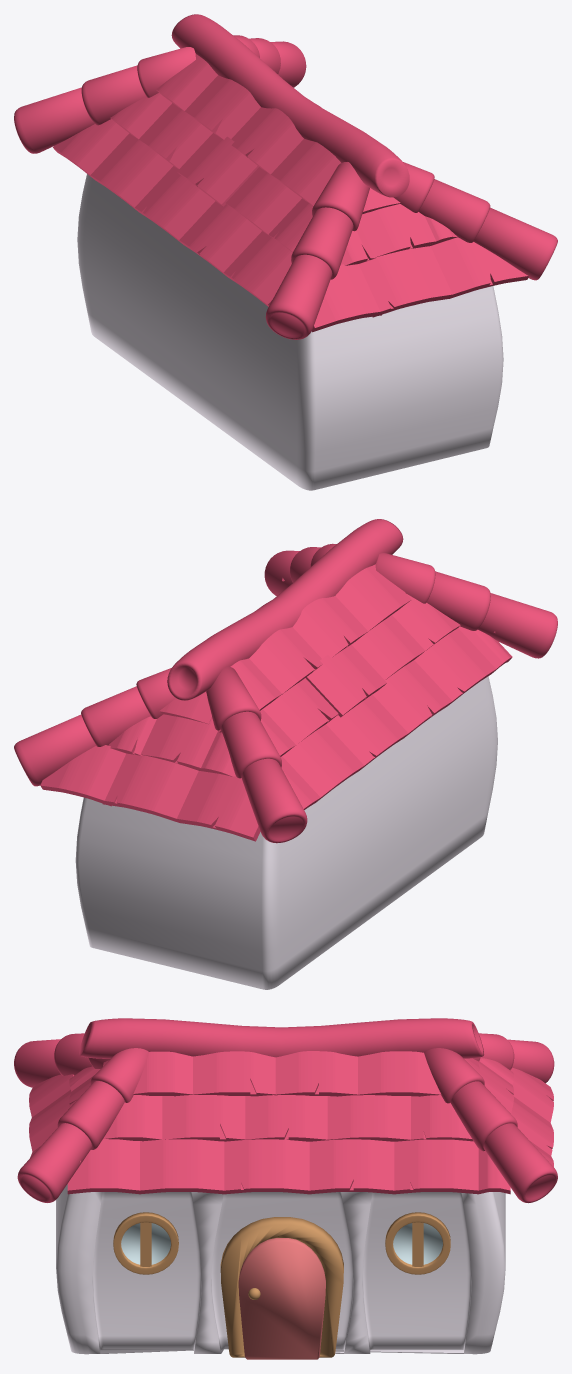
Rendered from Haus.002-Rot.fbx.
The picture shows the model from 3 angles, top to bottom: view 1: azimuth 30°, elevation 25°; view 2: azimuth 150°, elevation 25°; view 3: azimuth 270°, elevation 25°; orthographic projection. The views are drawn at different scales.
Visible parts, largest first — view 1: Haus.004; view 2: Haus.004; view 3: Haus.004.
Part boxes in pixels (box(x1,y1,x2,y2)): Haus.004: box(14, 14, 557, 490); Haus.004: box(14, 519, 557, 989); Haus.004: box(14, 1018, 557, 1359).
Bounding box in the file's own units: 277 × 279 × 471.
